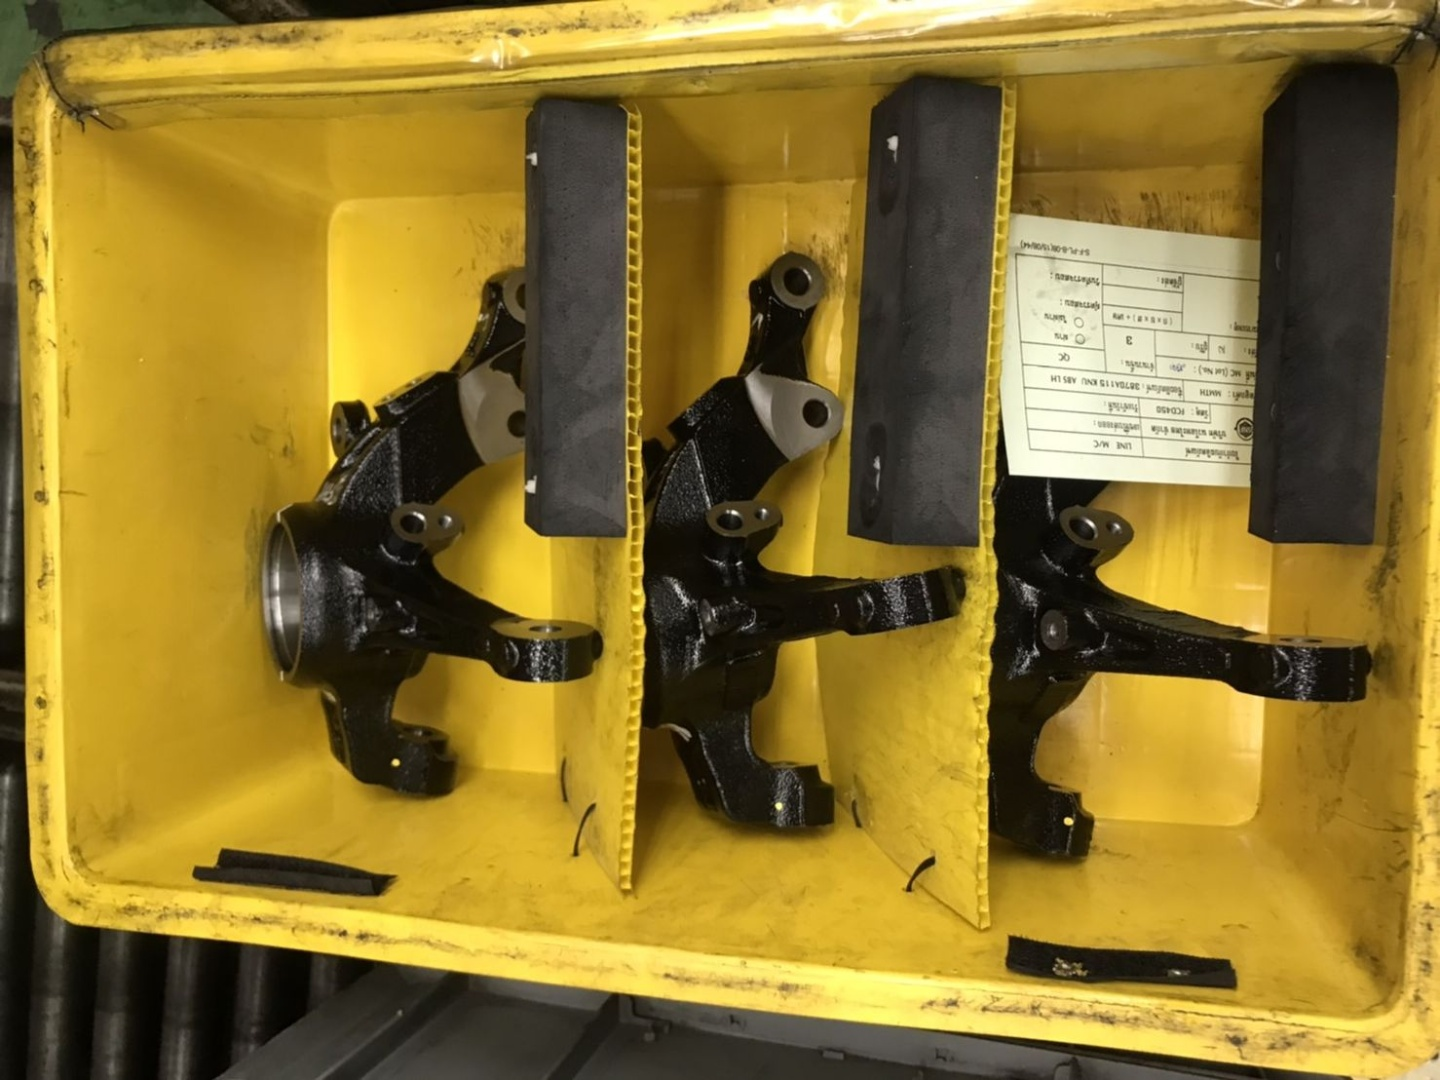abs-lh: (979, 243, 1379, 874), (629, 242, 975, 842), (249, 241, 610, 805)
